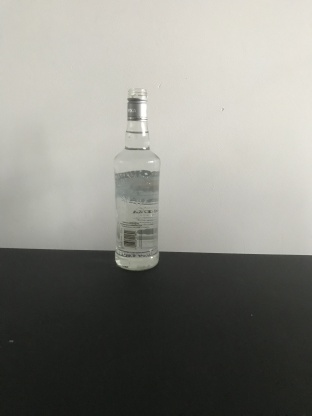nakretka: (125, 86, 149, 123)
